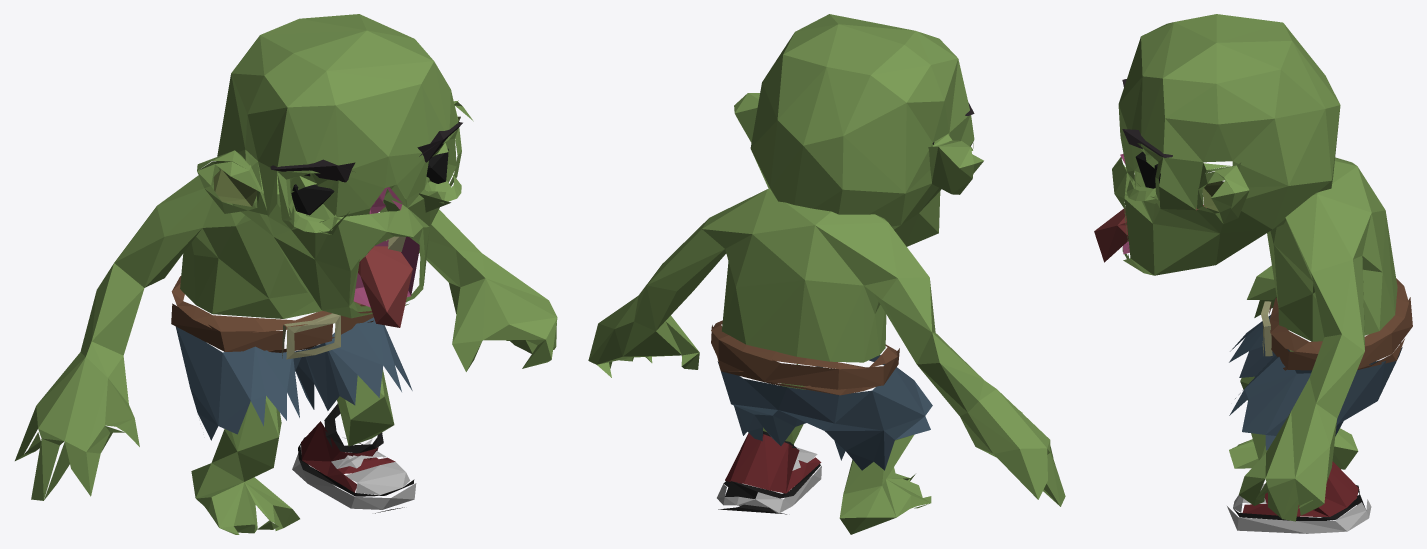
The model's file is char_zombie_common_01.glb.
3 views of the same model, side by side, from view 1: azimuth 30°, elevation 25°; view 2: azimuth 150°, elevation 25°; view 3: azimuth 270°, elevation 25° (orthographic). The views are drawn at different scales.
Visible parts, largest first — view 1: geometry_0; view 2: geometry_0; view 3: geometry_0.
Part boxes in pixels (<box>): geometry_0: <box>15,14,557,534</box>; geometry_0: <box>588,14,1065,534</box>; geometry_0: <box>1094,14,1412,533</box>.
Size of the model in its own units: 1.88 by 1.73 by 1.07.
Materials: 1 (1 with a texture image).
